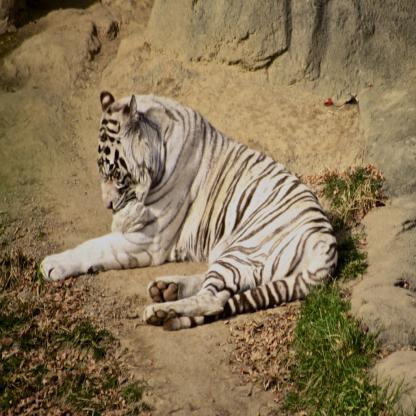Tiger: (38, 89, 339, 332)
